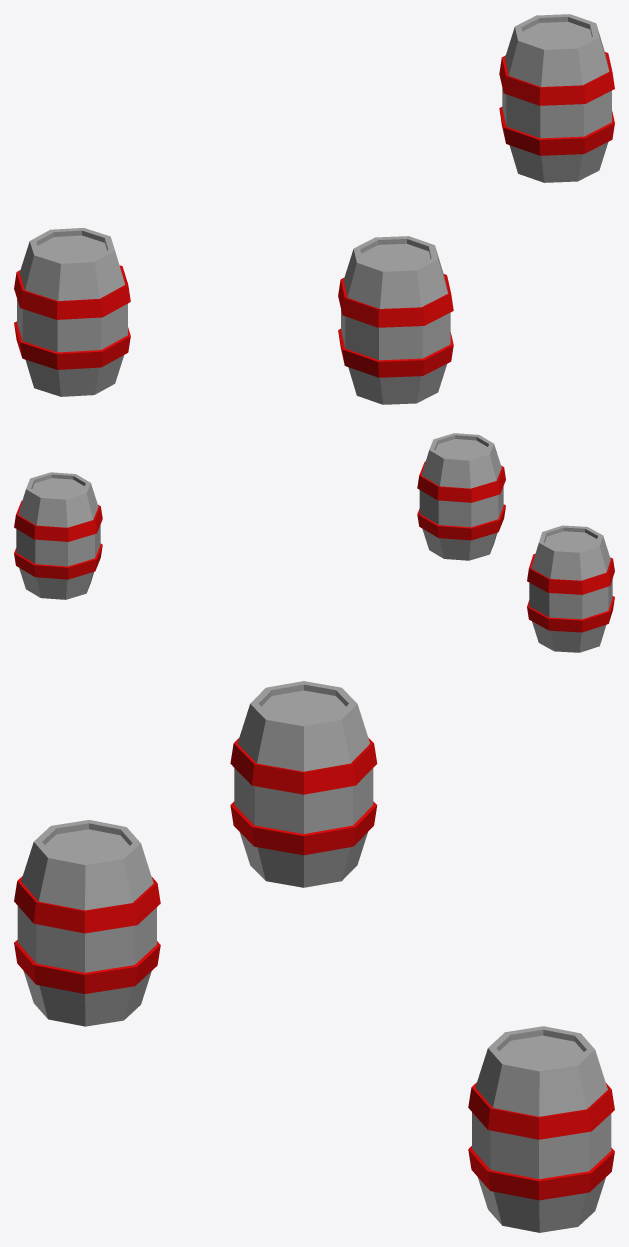
Rendered from Knight-Barrels.fbx.
The picture shows the model from 3 angles, top to bottom: view 1: azimuth 30°, elevation 25°; view 2: azimuth 150°, elevation 25°; view 3: azimuth 270°, elevation 25°; orthographic projection. The views are drawn at different scales.
Parts seen in each view (by area): view 1: pasted__pCylinder9, pasted__pCylinder10, pasted__pCylinder11; view 2: pasted__pCylinder10, pasted__pCylinder11, pasted__pCylinder9; view 3: pasted__pCylinder9, pasted__pCylinder10, pasted__pCylinder11.
Part boxes in pixels (x1,y1,x2,y2): pasted__pCylinder9: (14,228,130,396); pasted__pCylinder10: (499,14,614,182); pasted__pCylinder11: (338,236,453,404); pasted__pCylinder10: (14,472,102,599); pasted__pCylinder11: (417,433,505,560); pasted__pCylinder9: (527,525,614,652); pasted__pCylinder9: (230,681,377,887); pasted__pCylinder10: (468,1026,614,1232); pasted__pCylinder11: (14,820,160,1026).
Size of the model in its own units: 9.88 by 1.83 by 6.16.
